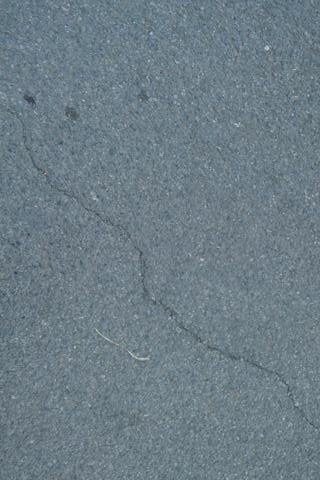A: (5, 106, 320, 430)
